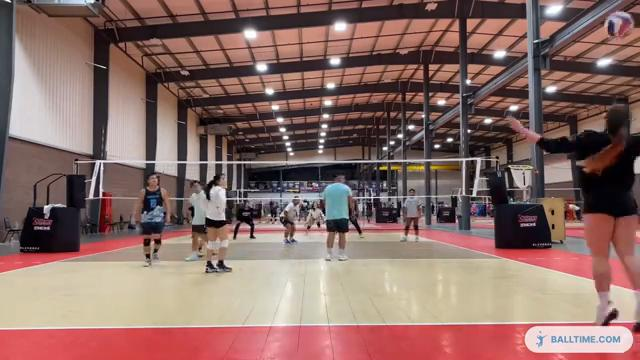Player: (133, 173, 169, 266), (205, 174, 231, 272), (185, 181, 205, 260), (401, 189, 420, 241), (280, 196, 299, 243), (233, 201, 254, 239), (306, 204, 324, 231)
Serve: (501, 102, 637, 324)
ball: (605, 11, 633, 40)
